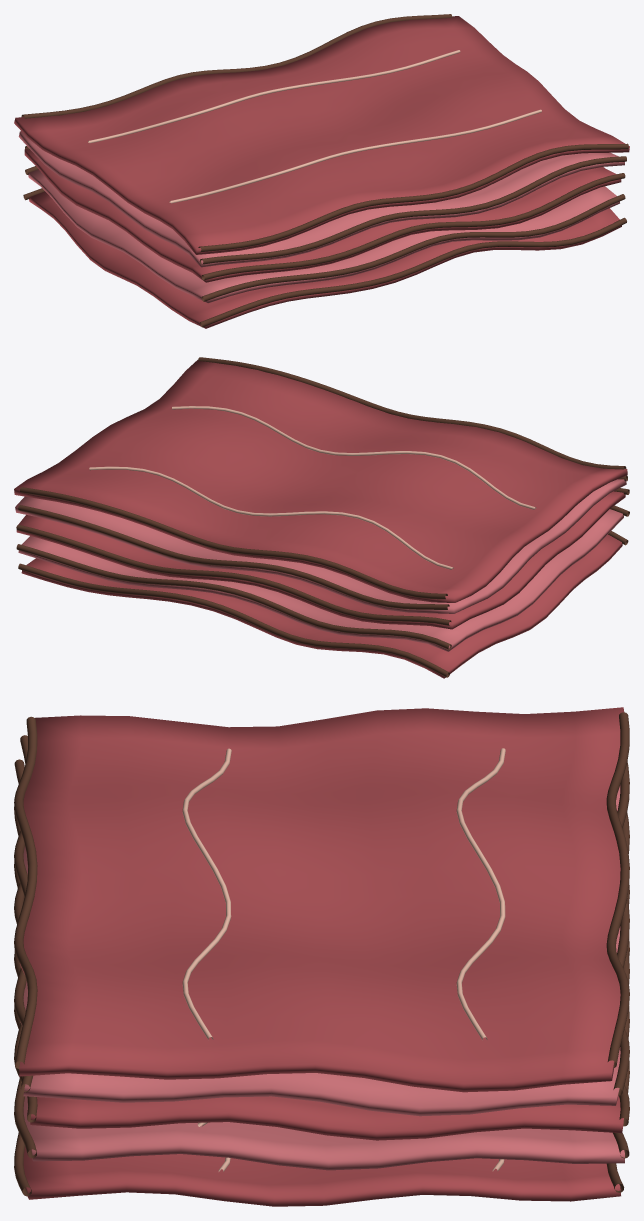
The model's file is pastrami.glb.
3 renders of one model, top to bottom at view 1: azimuth 30°, elevation 25°; view 2: azimuth 150°, elevation 25°; view 3: azimuth 270°, elevation 25°, orthographic. The views are drawn at different scales.
Visible parts, largest first — view 1: Pastrami warm cured beef geometry, Pastrami tender cut folds geometry, Pastrami peppered bark geometry, Pastrami fine marbling geometry; view 2: Pastrami warm cured beef geometry, Pastrami tender cut folds geometry, Pastrami peppered bark geometry, Pastrami fine marbling geometry; view 3: Pastrami warm cured beef geometry, Pastrami tender cut folds geometry, Pastrami peppered bark geometry, Pastrami fine marbling geometry.
Part boxes in pixels (bbox=[...]): Pastrami warm cured beef geometry: bbox=[14, 16, 629, 328]; Pastrami tender cut folds geometry: bbox=[18, 131, 624, 303]; Pastrami peppered bark geometry: bbox=[21, 14, 628, 327]; Pastrami fine marbling geometry: bbox=[88, 50, 541, 203]; Pastrami warm cured beef geometry: bbox=[14, 360, 627, 678]; Pastrami tender cut folds geometry: bbox=[15, 479, 626, 651]; Pastrami peppered bark geometry: bbox=[16, 357, 629, 677]; Pastrami fine marbling geometry: bbox=[89, 406, 536, 569]; Pastrami warm cured beef geometry: bbox=[19, 707, 624, 1206]; Pastrami tender cut folds geometry: bbox=[20, 785, 624, 1170]; Pastrami peppered bark geometry: bbox=[14, 712, 629, 1196]; Pastrami fine marbling geometry: bbox=[182, 748, 505, 1171].
Size of the model in its own units: 0.9734 by 0.2107 by 0.6967.
